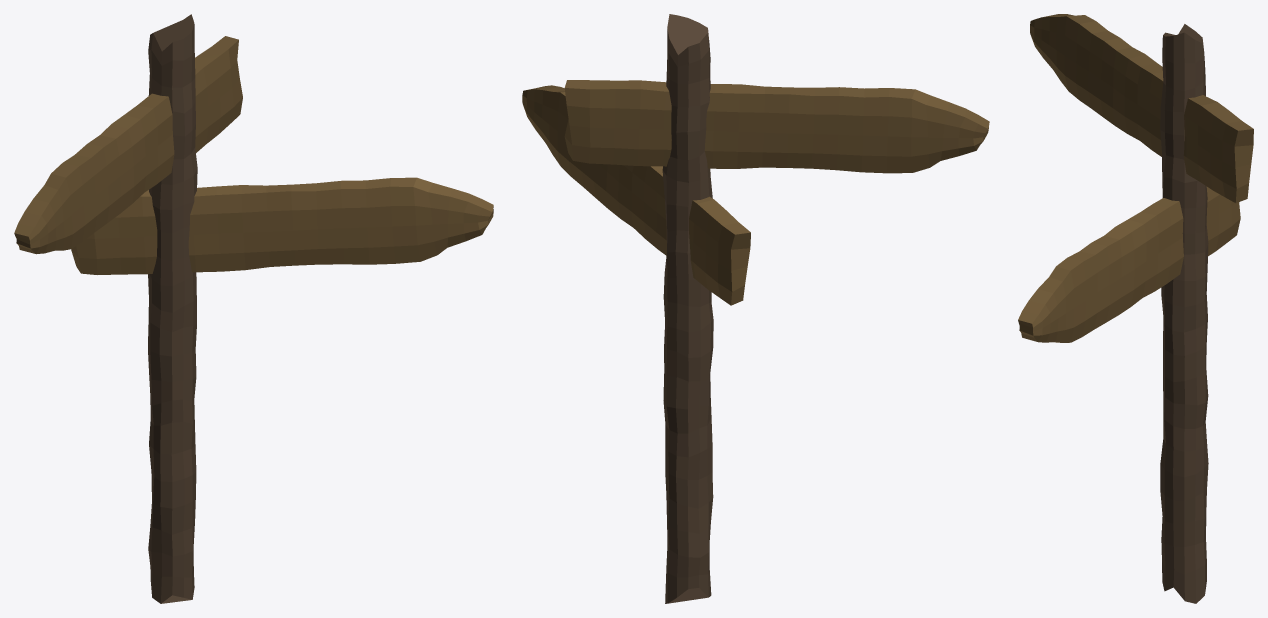
File: Schild2WegeFixed.fbx
3 views of the same model, side by side, from view 1: azimuth 30°, elevation 25°; view 2: azimuth 150°, elevation 25°; view 3: azimuth 270°, elevation 25° (orthographic). The views are drawn at different scales.
Parts seen in each view (by area): view 1: Cube.001; view 2: Cube.001; view 3: Cube.001.
Boxes of the visible parts, x1,y1,x2,y2 form: Cube.001: [14, 14, 493, 603]; Cube.001: [522, 14, 989, 603]; Cube.001: [1018, 14, 1253, 603].
Bounding box in the file's own units: 25.44 × 30.1 × 11.24.
